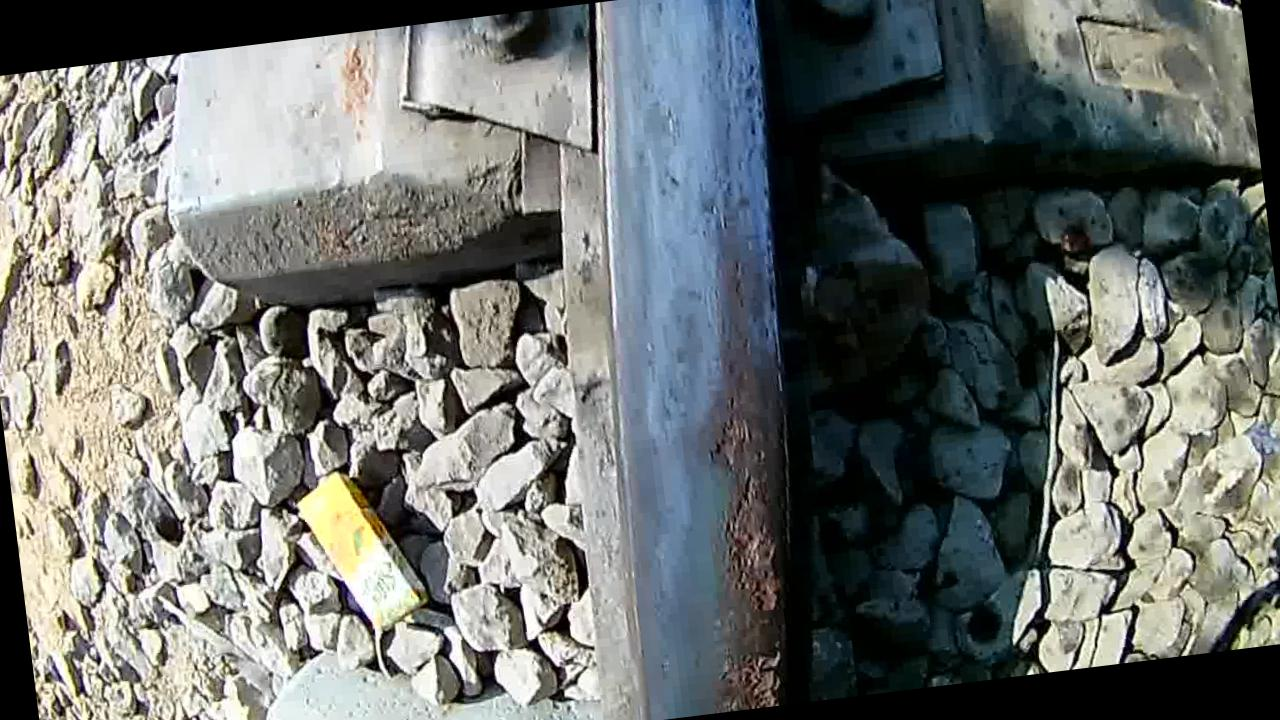crack: (591, 0, 840, 718)
